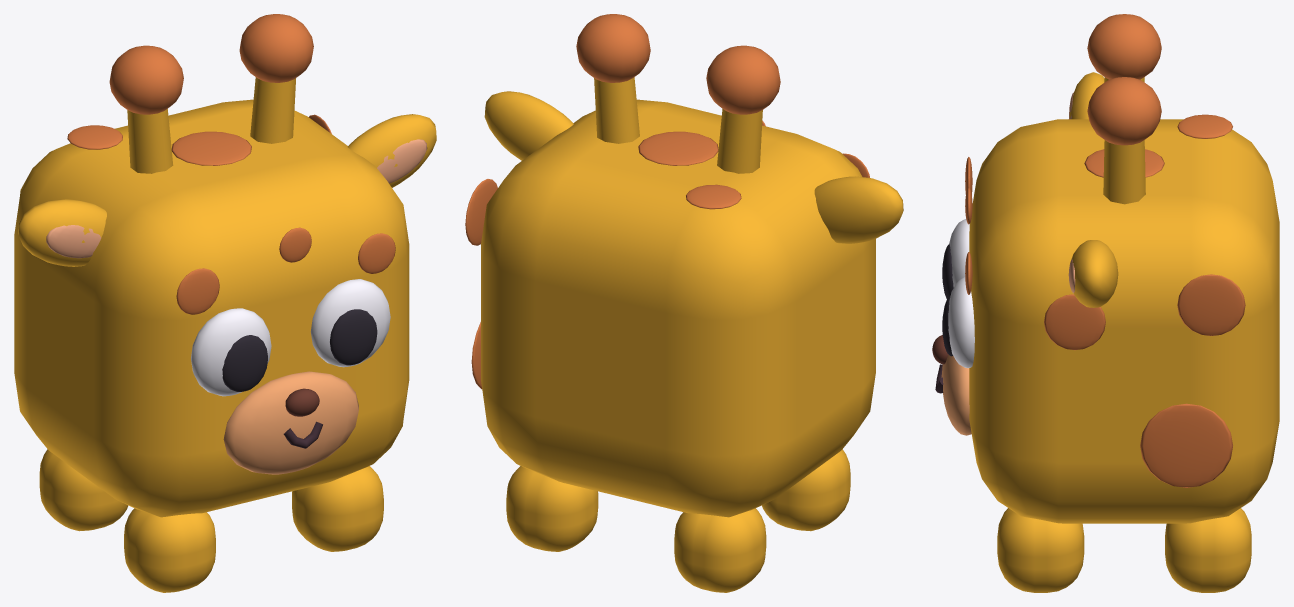
The model's file is pet-giraffe.glb.
3 renders of one model, left to right at view 1: azimuth 30°, elevation 25°; view 2: azimuth 150°, elevation 25°; view 3: azimuth 270°, elevation 25°, orthographic.
Parts seen in each view (by area): view 1: body, muzzle, ossicone_tip (×2), foot_L_front, foot_R_front, ossicone (×2), foot_L_back, face_spot (×3), eye_white_-1, eye_white_1, ear_-1, top_spot (×2) (+6 smaller); view 2: body, ossicone_tip (×2), foot_L_back, foot_R_back, ossicone (×2), ear_-1, foot_L_front, ear_1, top_spot (×2), side_spot; view 3: body, side_spot (×3), ossicone_tip (×2), foot_R_front, foot_R_back, ear_1, ossicone, eye_white_1, top_spot (×2), muzzle, eye_white_-1, ear_-1 (+1 smaller).
Part boxes in pixels (x1,y1,x2,y2): body: (14, 99, 409, 517); muzzle: (223, 371, 358, 474); ossicone_tip (×2): (109, 14, 313, 114); foot_L_front: (124, 508, 215, 592); foot_R_front: (292, 466, 383, 551); ossicone (×2): (127, 77, 295, 173); foot_L_back: (39, 449, 128, 531); face_spot (×3): (176, 227, 395, 314); eye_white_-1: (191, 308, 271, 396); eye_white_1: (310, 279, 390, 367); ear_-1: (18, 199, 106, 266); top_spot (×2): (67, 125, 251, 165); body: (481, 99, 875, 517); ossicone_tip (×2): (576, 14, 780, 114); foot_L_back: (674, 508, 766, 592); foot_R_back: (506, 466, 598, 551); ossicone (×2): (594, 77, 762, 173); ear_-1: (814, 176, 903, 243); foot_L_front: (762, 449, 850, 531); ear_1: (484, 91, 573, 160); top_spot (×2): (638, 131, 741, 209); side_spot: (465, 179, 497, 245); body: (969, 119, 1279, 523); side_spot (×3): (1044, 274, 1245, 487); ossicone_tip (×2): (1087, 14, 1161, 145); foot_R_front: (997, 508, 1084, 592); foot_R_back: (1165, 508, 1251, 592); ear_1: (1068, 240, 1118, 307); ossicone: (1103, 140, 1145, 204); eye_white_1: (948, 277, 974, 368); top_spot (×2): (1084, 114, 1232, 177); muzzle: (941, 354, 971, 435); eye_white_-1: (949, 219, 969, 287); ear_-1: (1069, 72, 1104, 119).
Size of the model in its own units: 1.54 by 1.77 by 1.12.
